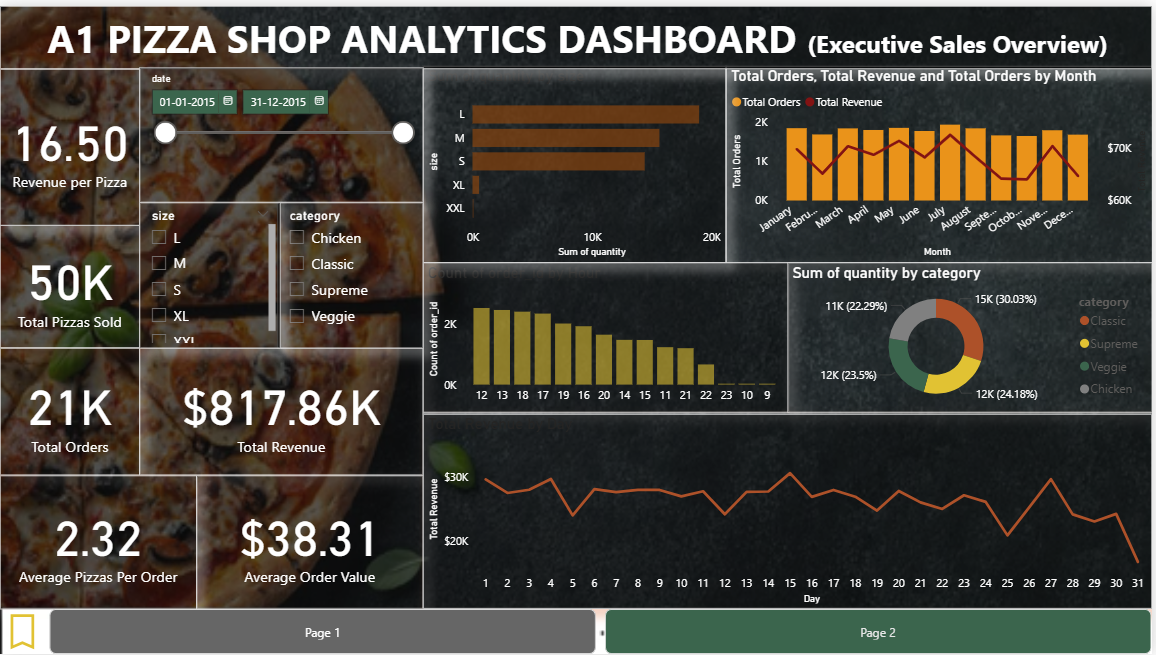

What the dashboard file says about the page in this screenshot:
{"tool":"powerbi","page":{"name":"Page 1","canvas":[1280,720],"ordinal":0},"visuals":[{"type":"card","fields":{"Values":["order_details.Total Revenue"]},"box":[218,380.6,252.1,141.5],"z":0},{"type":"card","fields":{"Values":["order_details.Total Pizzas Sold"]},"box":[0,244,201.7,136.6],"z":1000},{"type":"card","fields":{"Values":["order_details.Total Orders"]},"box":[0,380.6,218,141.5],"z":2000},{"type":"card","fields":{"Values":["orders.Average Order Value"]},"box":[218.3,521.7,251.7,148.3],"z":3000},{"type":"card","fields":{"Values":["order_details.Average Pizzas Per Order"]},"box":[0,521.7,218.3,148.3],"z":4000},{"type":"lineClusteredColumnComboChart","fields":{"Category":["orders.date.Variation.Date Hierarchy.Month"],"Y":["order_details.Total Orders"],"Y2":["order_details.Total Revenue"]},"box":[806.2,66.2,473.8,218.5],"z":5000},{"type":"clusteredColumnChart","fields":{"Category":["orders.Hour"],"Y":["CountNonNull(orders.order_id)"]},"box":[470,285,406.7,166.7],"z":6000},{"type":"donutChart","fields":{"Category":["pizza_types.category"],"Y":["Sum(order_details.quantity)"]},"box":[875,285,405,166.7],"z":7000},{"type":"clusteredBarChart","fields":{"Category":["pizzas.size"],"Y":["Sum(order_details.quantity)"]},"box":[470,66.7,336.7,218.3],"z":8000},{"type":"textbox","box":[0,0,1280.1,69.9],"z":9000},{"type":"card","fields":{"Values":["order_details.Revenue per Pizza"]},"box":[0,69.2,155.4,173.8],"z":10000},{"type":"lineChart","fields":{"Y":["order_details.Total Revenue"],"Category":["orders.date.Variation.Date Hierarchy.Day"]},"box":[470,453.3,810,216.7],"z":11000},{"type":"slicer","fields":{"Values":["orders.date"]},"box":[155,68.3,315,150],"z":12000},{"type":"slicer","fields":{"Values":["pizza_types.category"]},"box":[308.3,218.3,161.7,161.7],"z":13000},{"type":"slicer","fields":{"Values":["pizzas.size"]},"box":[201.7,218,110.6,162.7],"z":14000},{"type":"actionButton","box":[0,670,55,50],"z":15000},{"type":"pageNavigator","box":[55,670,1225,50],"z":16000}]}

Visuals, with their boxes in screenshot pixels (x1, y1, x2, y2), scaled from the page's 1280x720 canvas onto the 1156x655 screenshot:
card - order_details.Total Revenue: select_region(197, 346, 425, 475)
card - order_details.Total Pizzas Sold: select_region(0, 222, 182, 346)
card - order_details.Total Orders: select_region(0, 346, 197, 475)
card - orders.Average Order Value: select_region(197, 475, 424, 610)
card - order_details.Average Pizzas Per Order: select_region(0, 475, 197, 610)
lineClusteredColumnComboChart - orders.date.Variation.Date Hierarchy.Month x order_details.Total Orders: select_region(728, 60, 1155, 259)
clusteredColumnChart - orders.Hour x CountNonNull(orders.order_id): select_region(424, 259, 792, 411)
donutChart - pizza_types.category x Sum(order_details.quantity): select_region(790, 259, 1155, 411)
clusteredBarChart - pizzas.size x Sum(order_details.quantity): select_region(424, 61, 729, 259)
textbox: select_region(0, 0, 1155, 64)
card - order_details.Revenue per Pizza: select_region(0, 63, 140, 221)
lineChart - order_details.Total Revenue x orders.date.Variation.Date Hierarchy.Day: select_region(424, 412, 1155, 610)
slicer - orders.date: select_region(140, 62, 424, 199)
slicer - pizza_types.category: select_region(278, 199, 424, 346)
slicer - pizzas.size: select_region(182, 198, 282, 346)
actionButton: select_region(0, 610, 50, 654)
pageNavigator: select_region(50, 610, 1155, 654)
